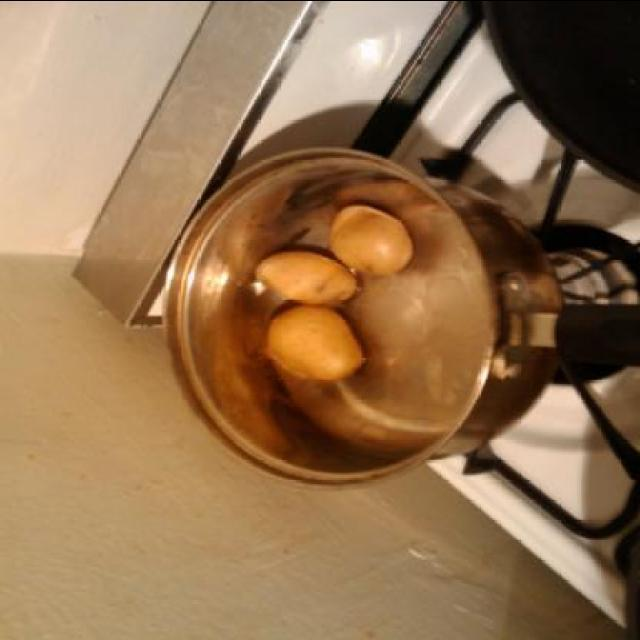Potato: (266, 304, 368, 382), (329, 204, 414, 276), (254, 252, 354, 304)
